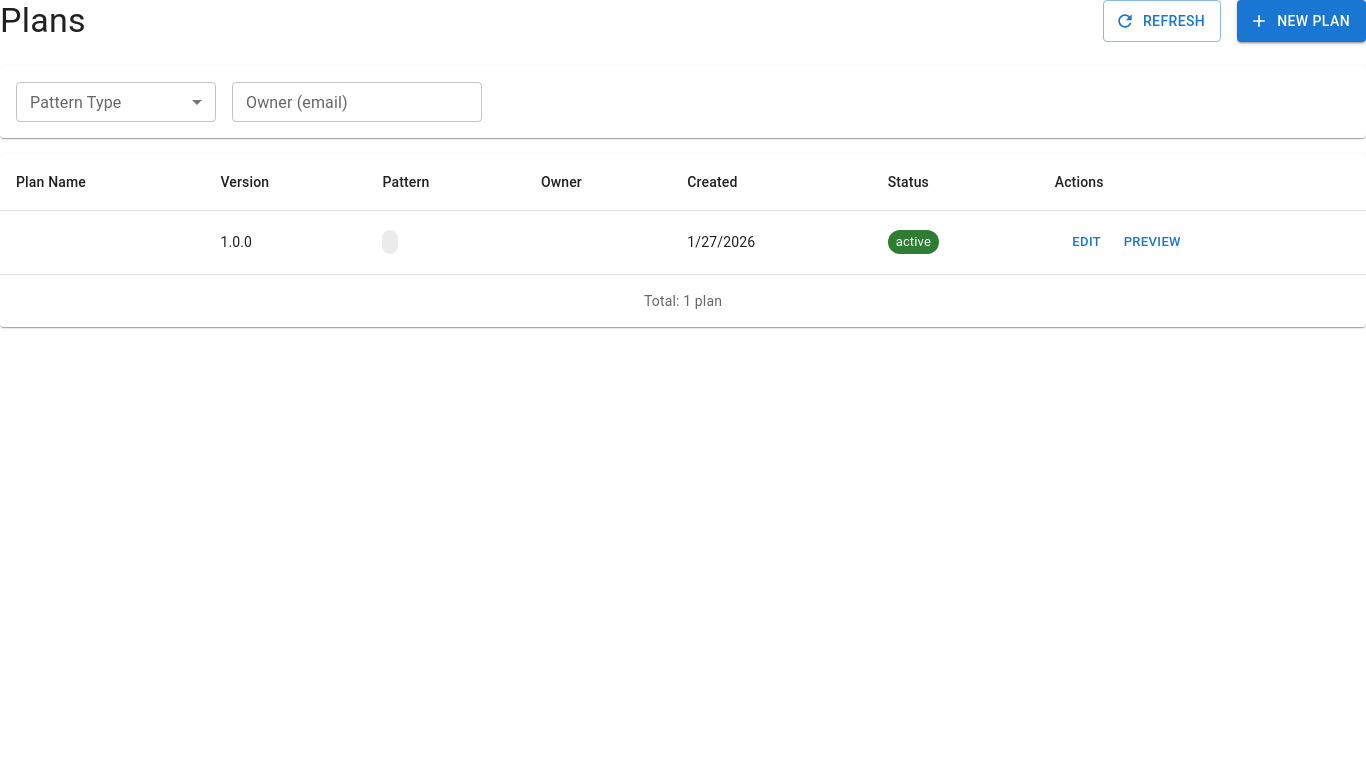
Test case: Coordinated Execution › should handle execution failure
Click the button "Preview".
click(1152, 242)  # box [1119,227,1186,258]
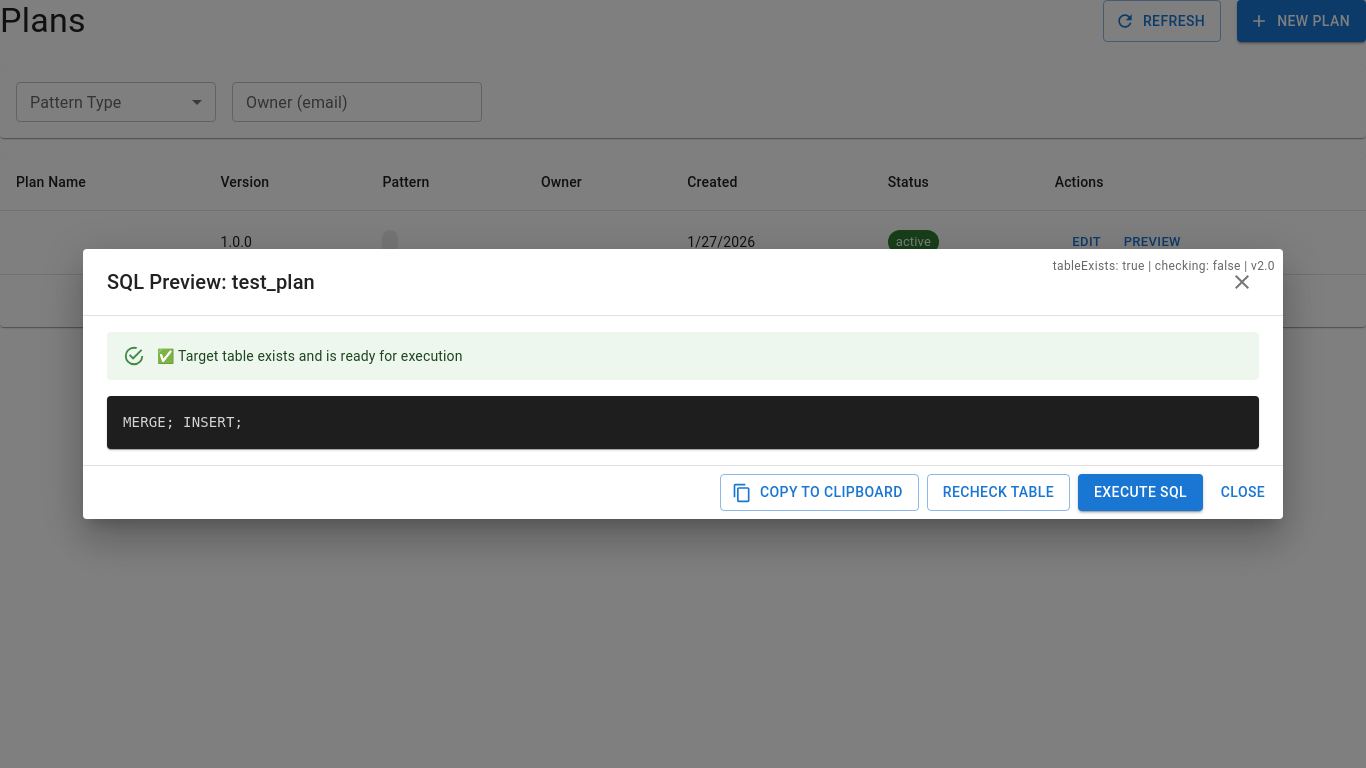
Now the button "Execute SQL" is shown
Click the button "Execute SQL".
click(1140, 493)  # box [1078,474,1203,511]
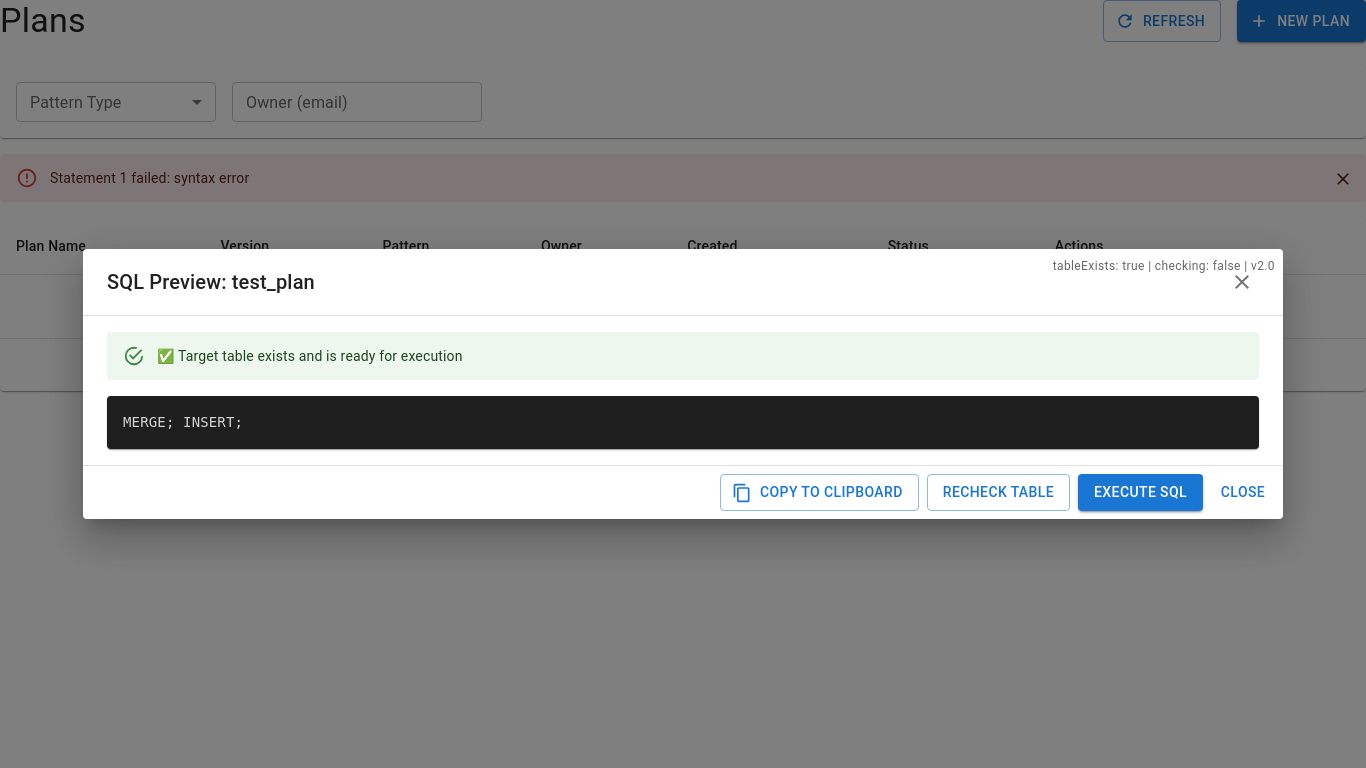
Now the text "Statement 1 failed: syntax error" is shown, box [50,170,249,186]
